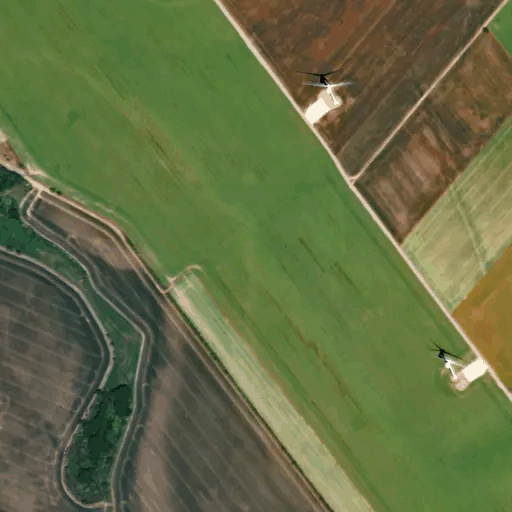wt: (420, 332, 475, 392), (285, 62, 355, 109)
